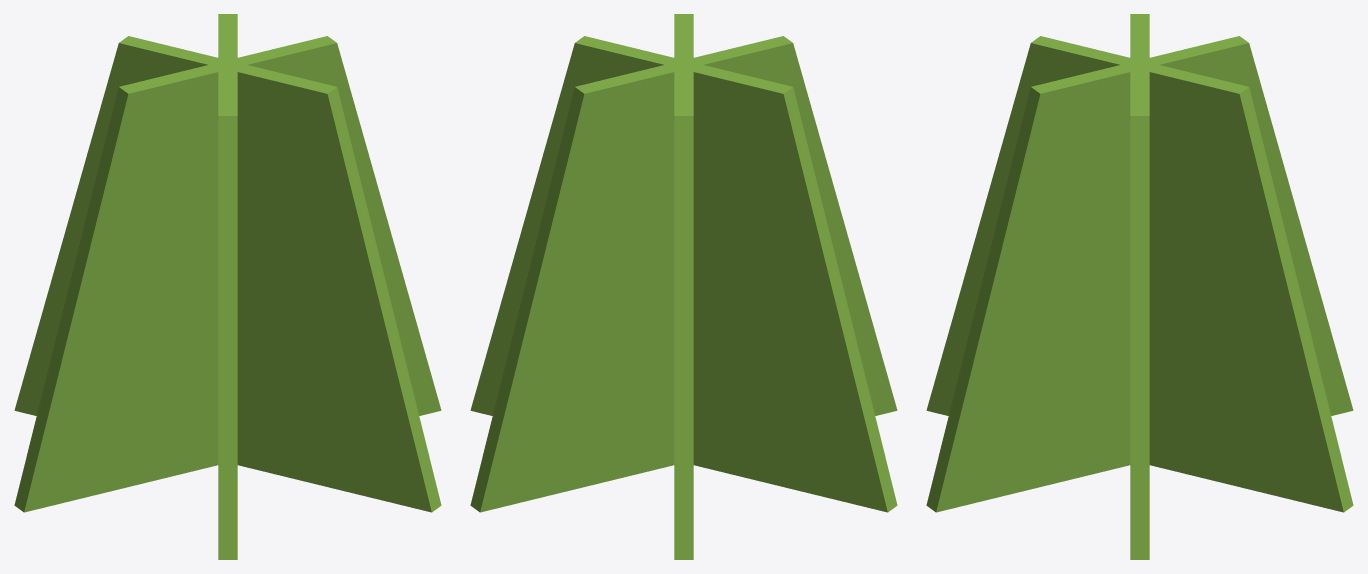
File: nat_grass.glb
3 views of the same model, side by side, from view 1: azimuth 30°, elevation 25°; view 2: azimuth 150°, elevation 25°; view 3: azimuth 270°, elevation 25° (orthographic).
Visible parts, largest first — view 1: nat_grass__mesh; view 2: nat_grass__mesh; view 3: nat_grass__mesh.
Part boxes in pixels (x1=…): nat_grass__mesh: x1=14, y1=14, x2=441, y2=559; nat_grass__mesh: x1=470, y1=14, x2=897, y2=559; nat_grass__mesh: x1=926, y1=14, x2=1353, y2=559.
Bounding box in the file's own units: 0.5 × 0.45 × 0.443.
